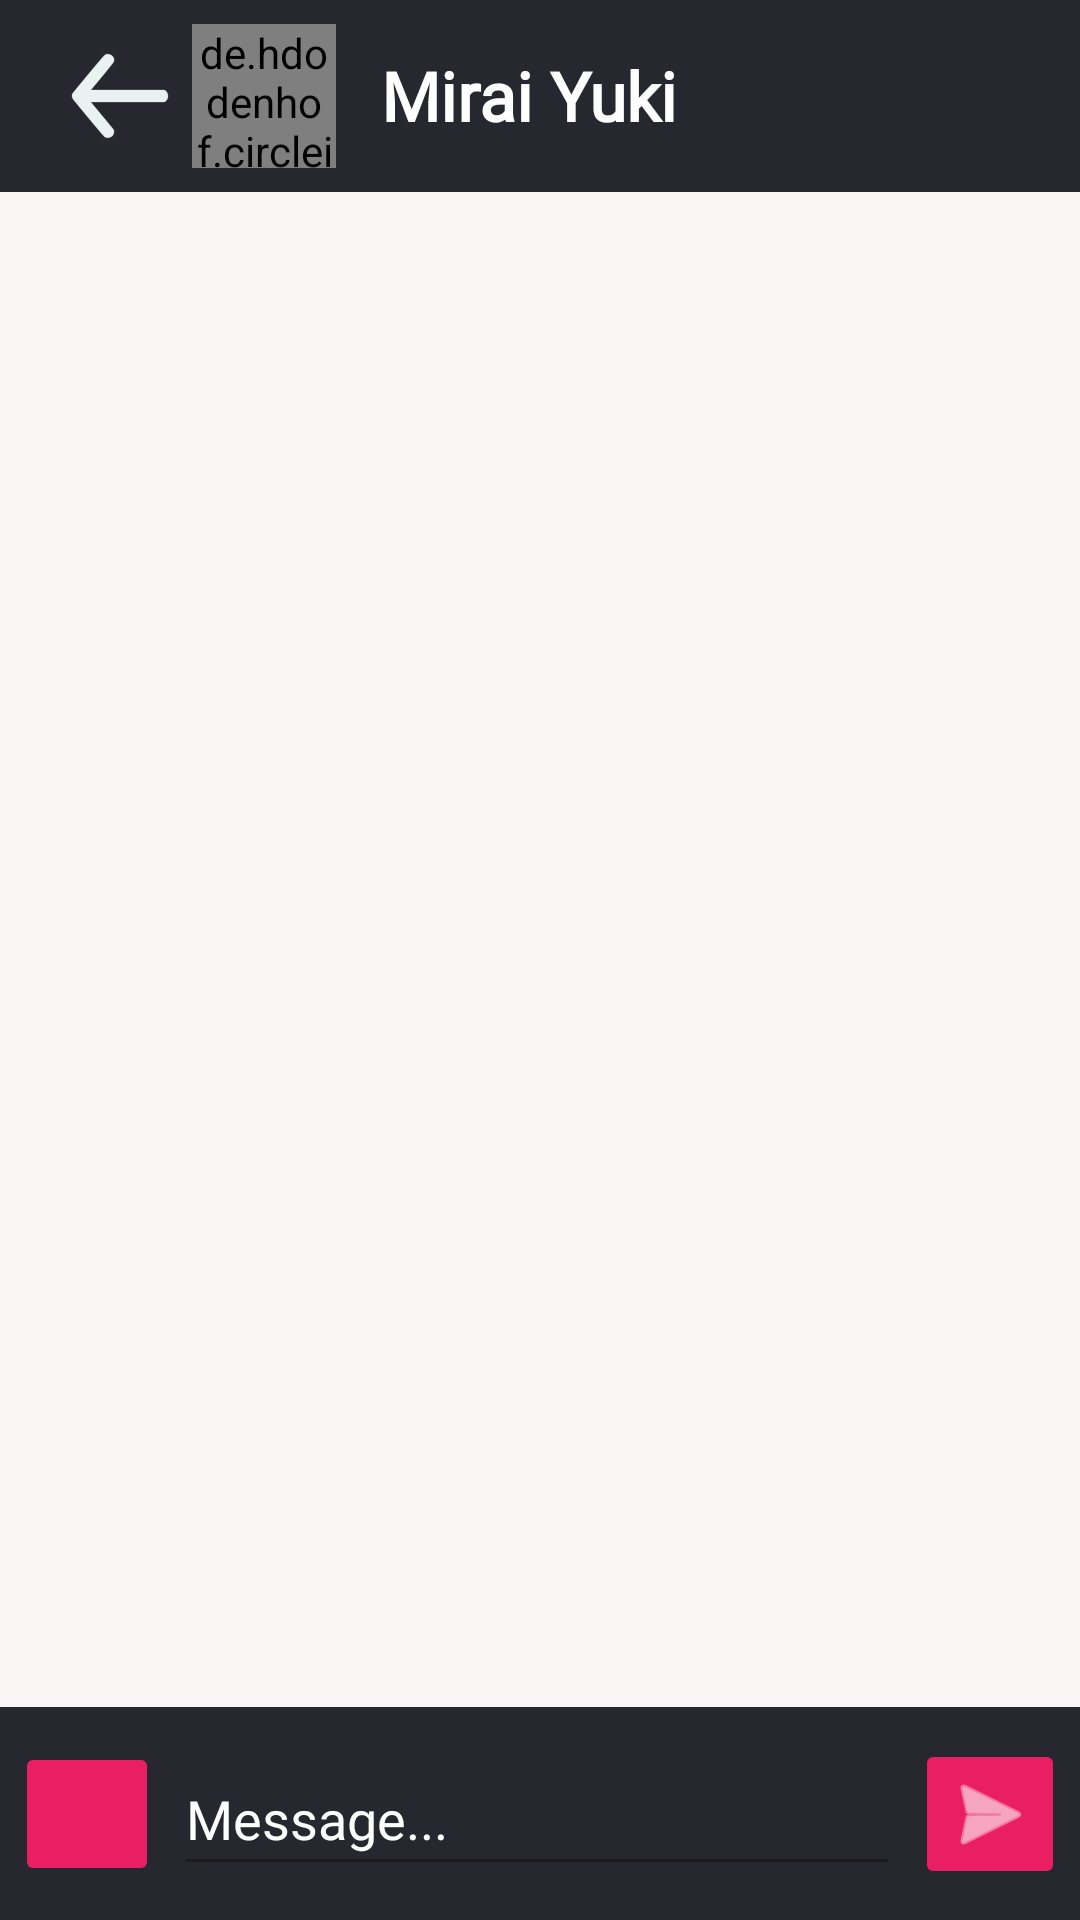

Locate icon controls on the screen. Image size 1080w x 1920h, boxes as region(x1, y1, x2, y2).
arrow left: region(71, 54, 168, 138)
send: region(927, 1757, 1053, 1871)
